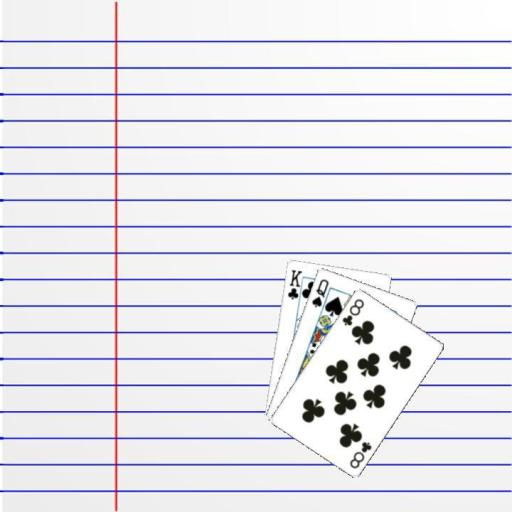card-corner: (338, 295, 366, 327), (346, 438, 374, 470), (284, 267, 306, 304), (309, 275, 330, 309)
